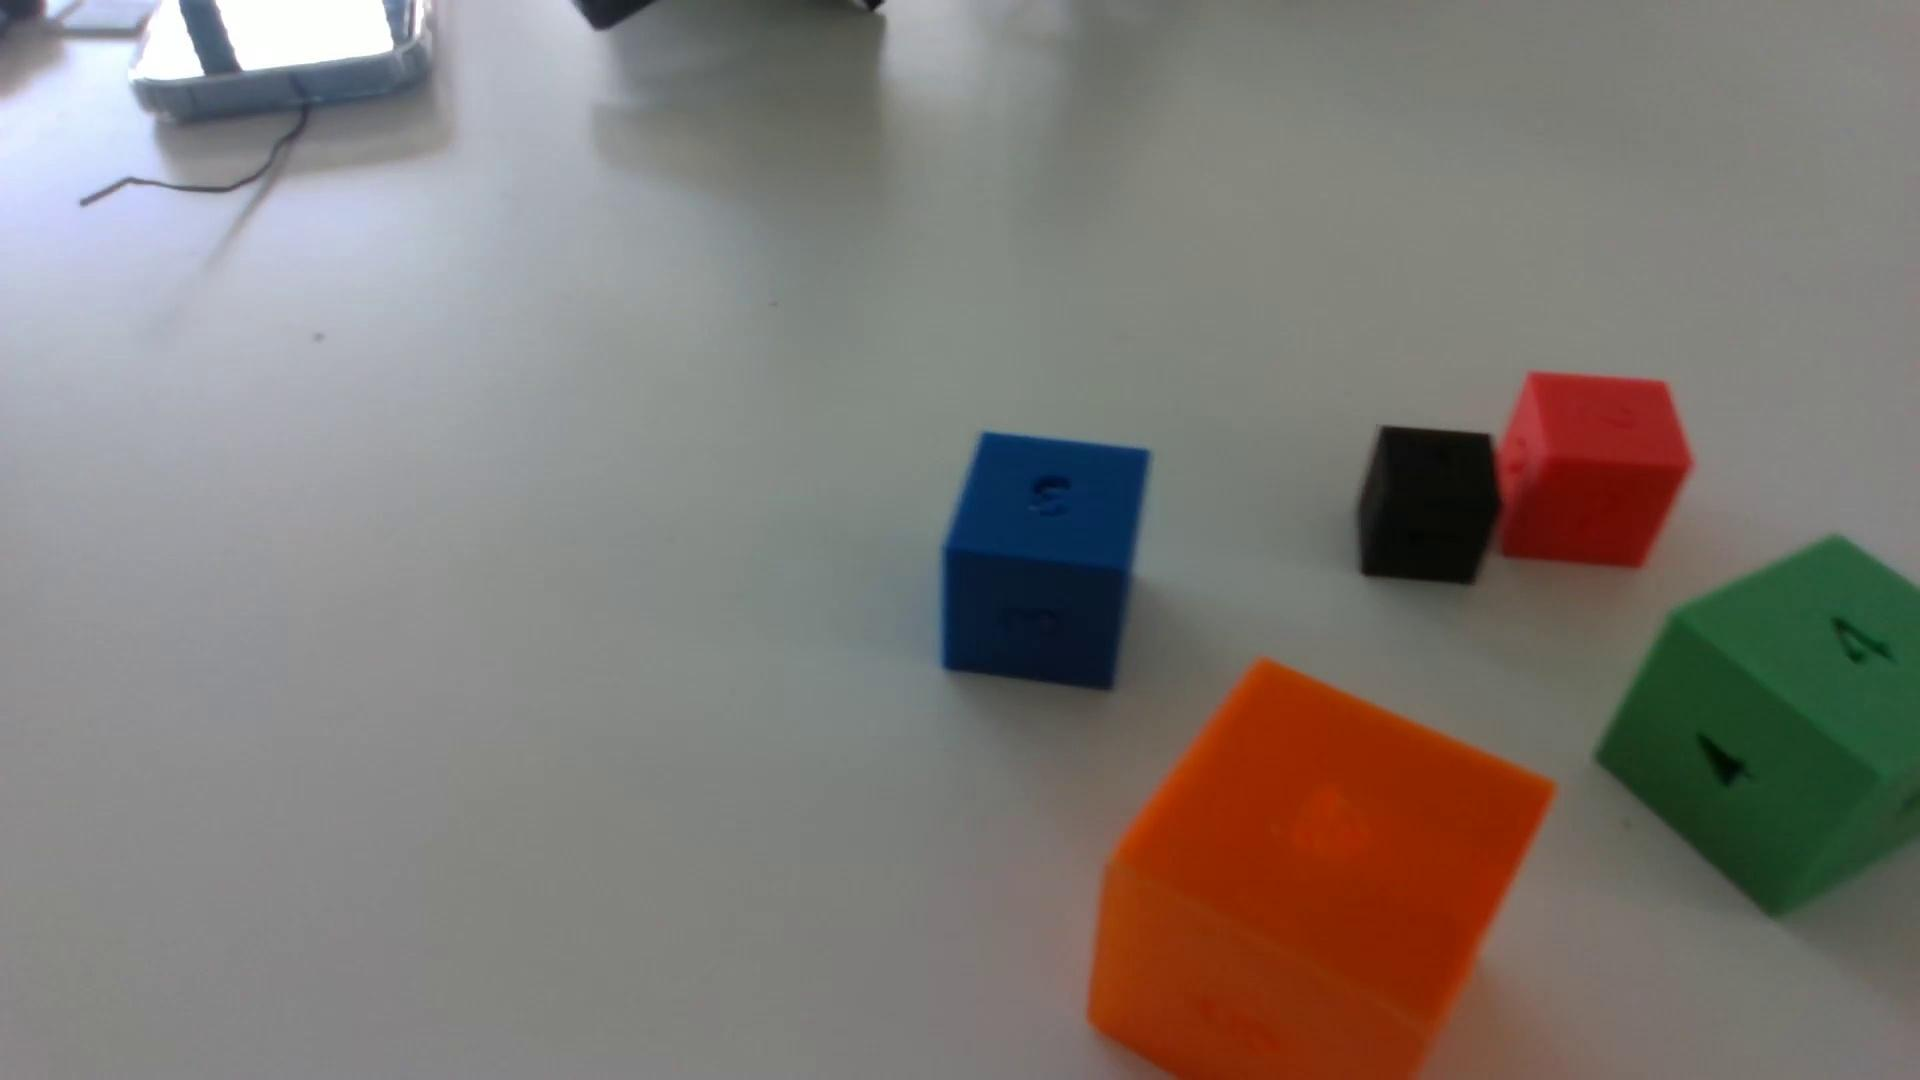black: (1356, 426, 1501, 585)
blue: (942, 433, 1150, 691)
green: (1596, 538, 1920, 916)
orange: (1087, 662, 1553, 1080)
red: (1497, 372, 1692, 568)
